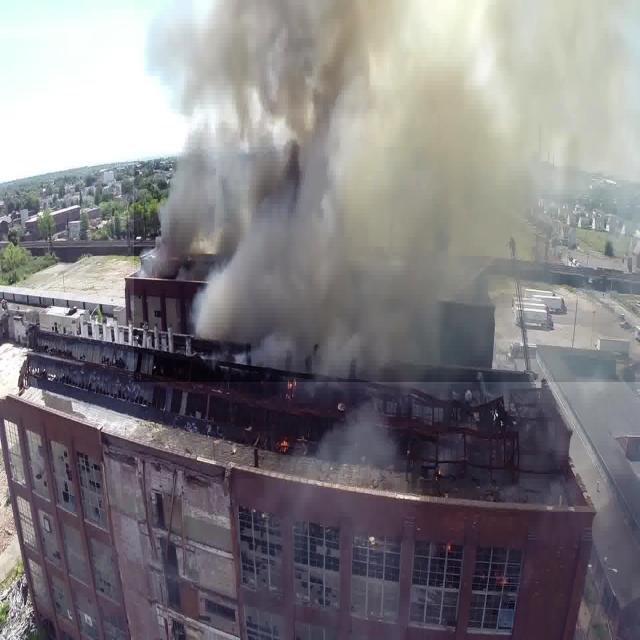Smoke: (134, 0, 640, 382)
